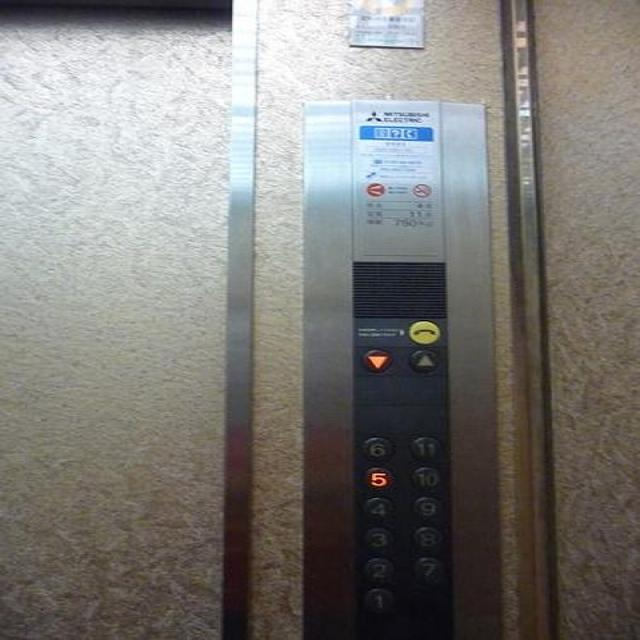1: (360, 586, 395, 613)
10: (408, 464, 443, 491)
11: (407, 434, 441, 461)
2: (360, 556, 395, 583)
3: (360, 525, 395, 552)
4: (360, 495, 395, 522)
5: (360, 465, 395, 492)
6: (359, 435, 393, 462)
7: (409, 555, 444, 582)
8: (409, 524, 444, 551)
9: (409, 494, 444, 521)
call: (405, 318, 440, 345)
down: (359, 346, 393, 373)
up: (405, 347, 440, 374)
